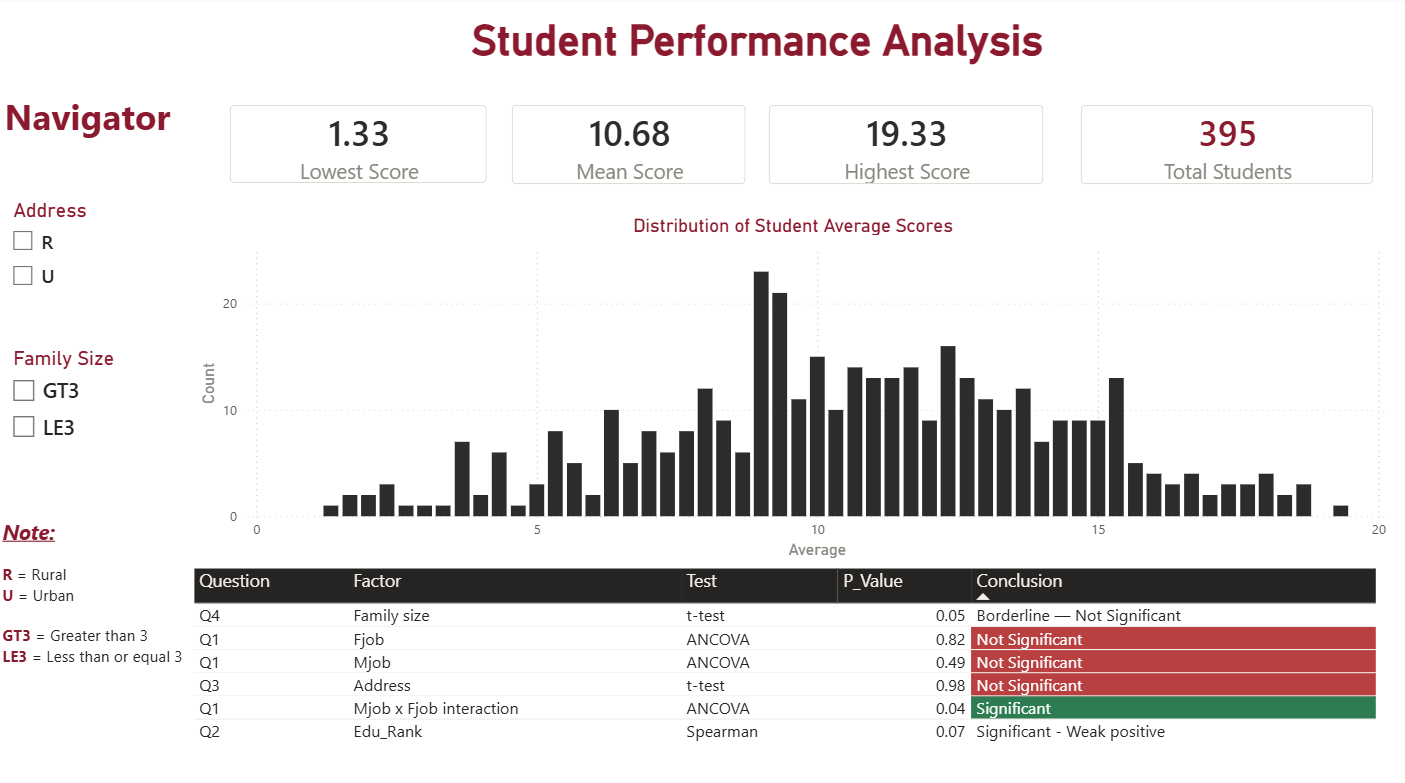

Layout of this report page (visuals, bound fields, positions):
{"tool":"powerbi","page":{"name":"Overview","canvas":[1280,720],"ordinal":0},"visuals":[{"type":"cardVisual","fields":{"Data":["Avg(student_data_clean.Average)"]},"box":[449.4,80.7,246.1,106],"z":0},{"type":"cardVisual","fields":{"Data":["Min(student_data_clean.Average)"]},"box":[194.5,80.7,267.1,105.7],"z":1000},{"type":"cardVisual","fields":{"Data":["Max(student_data_clean.Average)"]},"box":[682.8,80.7,283,106],"z":2000},{"type":"cardVisual","fields":{"Data":["CountNonNull(student_data_clean.age)"]},"box":[965.6,80.8,299.8,106.1],"z":3000},{"type":"tableEx","fields":{"Values":["statistical_tests_results.Question","statistical_tests_results.Factor","statistical_tests_results.Test","select","Sum(statistical_tests_results.P_Value)","statistical_tests_results.Conclusion"]},"box":[172.2,513.6,1086.4,206.2],"z":4000},{"type":"clusteredColumnChart","title":"Distribution of Student Average Scores","fields":{"Y":["CountNonNull(student_data_clean.Average)"],"Category":["student_data_clean.Average"]},"box":[179,196.5,1086.4,317.1],"z":5000},{"type":"slicer","fields":{"Values":["student_data_clean.address"]},"box":[1.6,178,179,104.1],"z":6000},{"type":"slicer","fields":{"Values":["student_data_clean.famsize"]},"box":[1.6,312.2,179,178],"z":7000},{"type":"textbox","box":[1.6,80.7,172.2,69.1],"z":8000},{"type":"textbox","box":[425,11.7,540.8,57.4],"z":8001},{"type":"textbox","box":[0,467.2,179.1,206.4],"z":8002}]}

Visuals, with their boxes in screenshot pixels (x1, y1, x2, y2), scaled from the page's 1280x720 canvas onto the 1405x783 screenshot:
cardVisual - Avg(student_data_clean.Average): 493:88:763:203
cardVisual - Min(student_data_clean.Average): 213:88:507:203
cardVisual - Max(student_data_clean.Average): 749:88:1060:203
cardVisual - CountNonNull(student_data_clean.age): 1060:88:1389:203
tableEx - statistical_tests_results.Question x statistical_tests_results.Factor: 189:559:1382:782
"Distribution of Student Average Scores" clusteredColumnChart: 196:214:1389:559
slicer - student_data_clean.address: 2:194:198:307
slicer - student_data_clean.famsize: 2:340:198:533
textbox: 2:88:191:163
textbox: 467:13:1060:75
textbox: 0:508:197:733
